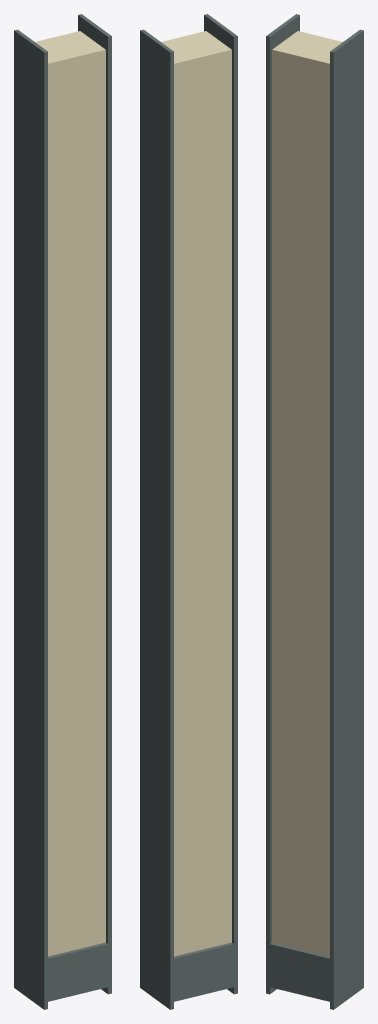
File: LP_StaffToilet_FrontLeft01.fbx
3 renders of one model, left to right at view 1: azimuth 30°, elevation 25°; view 2: azimuth 210°, elevation 25°; view 3: azimuth 330°, elevation 25°, orthographic.
Visible parts, largest first — view 1: WarmIvory, M_Museum_BrushedMetal; view 2: WarmIvory, M_Museum_BrushedMetal; view 3: WarmIvory, M_Museum_BrushedMetal.
Boxes of the visible parts, left/top/right/bottom form: WarmIvory: left=35, top=31, right=105, bottom=956; M_Museum_BrushedMetal: left=14, top=14, right=111, bottom=1009; WarmIvory: left=161, top=31, right=231, bottom=956; M_Museum_BrushedMetal: left=140, top=14, right=237, bottom=1009; WarmIvory: left=272, top=31, right=342, bottom=956; M_Museum_BrushedMetal: left=266, top=14, right=363, bottom=1009.
Size of the model in its own units: 15.5 by 210 by 12.
